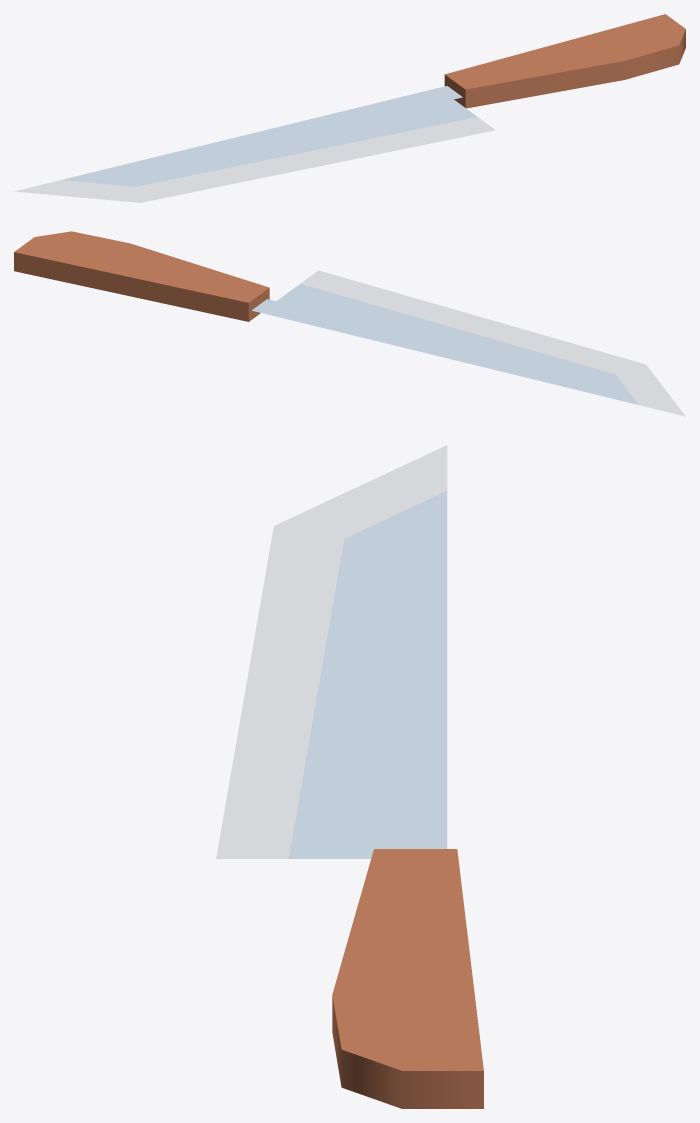
Rendered from Cooking_Knife.glb.
The picture shows the model from 3 angles, top to bottom: view 1: azimuth 30°, elevation 25°; view 2: azimuth 150°, elevation 25°; view 3: azimuth 270°, elevation 25°; orthographic projection. The views are drawn at different scales.
Visible parts, largest first — view 1: cookingKnife; view 2: cookingKnife; view 3: cookingKnife.
Part boxes in pixels (x1,y1,x2,y2): cookingKnife: (14,14,685,202); cookingKnife: (14,231,685,416); cookingKnife: (216,445,483,1108).
Bounding box in the file's own units: 0.7262 × 0.02 × 0.1275.
